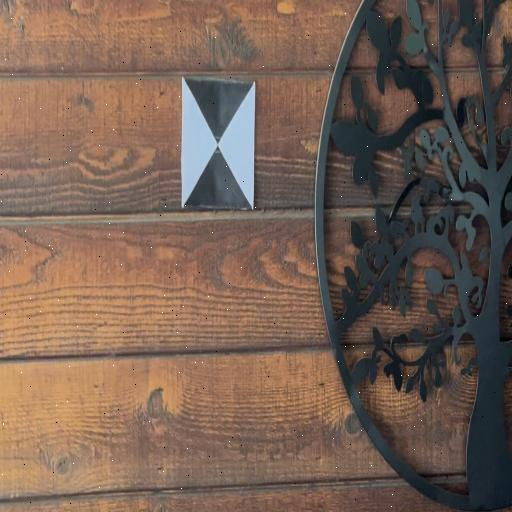target: (182, 76, 254, 208)
